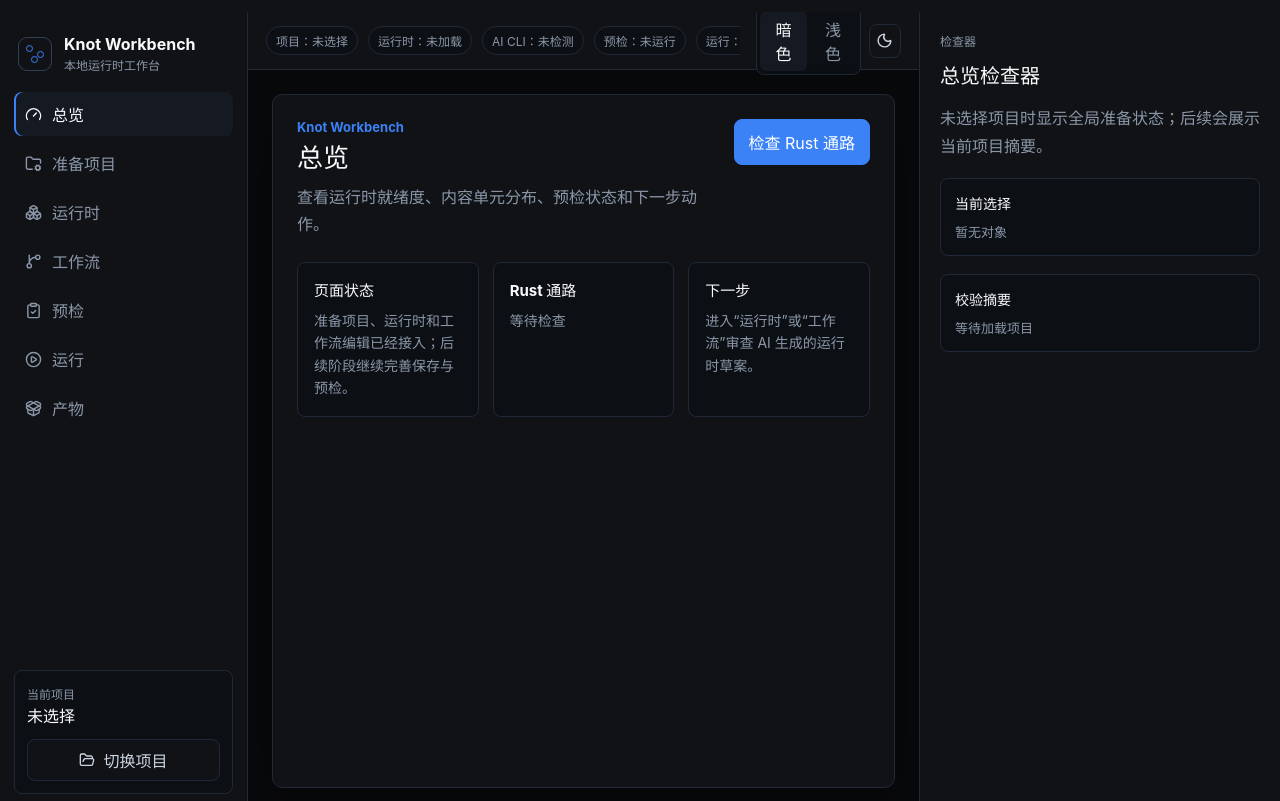
App › syncs the main page and inspector when navigating
Click the button "工作流".
click(124, 261)  # box [14,239,233,283]
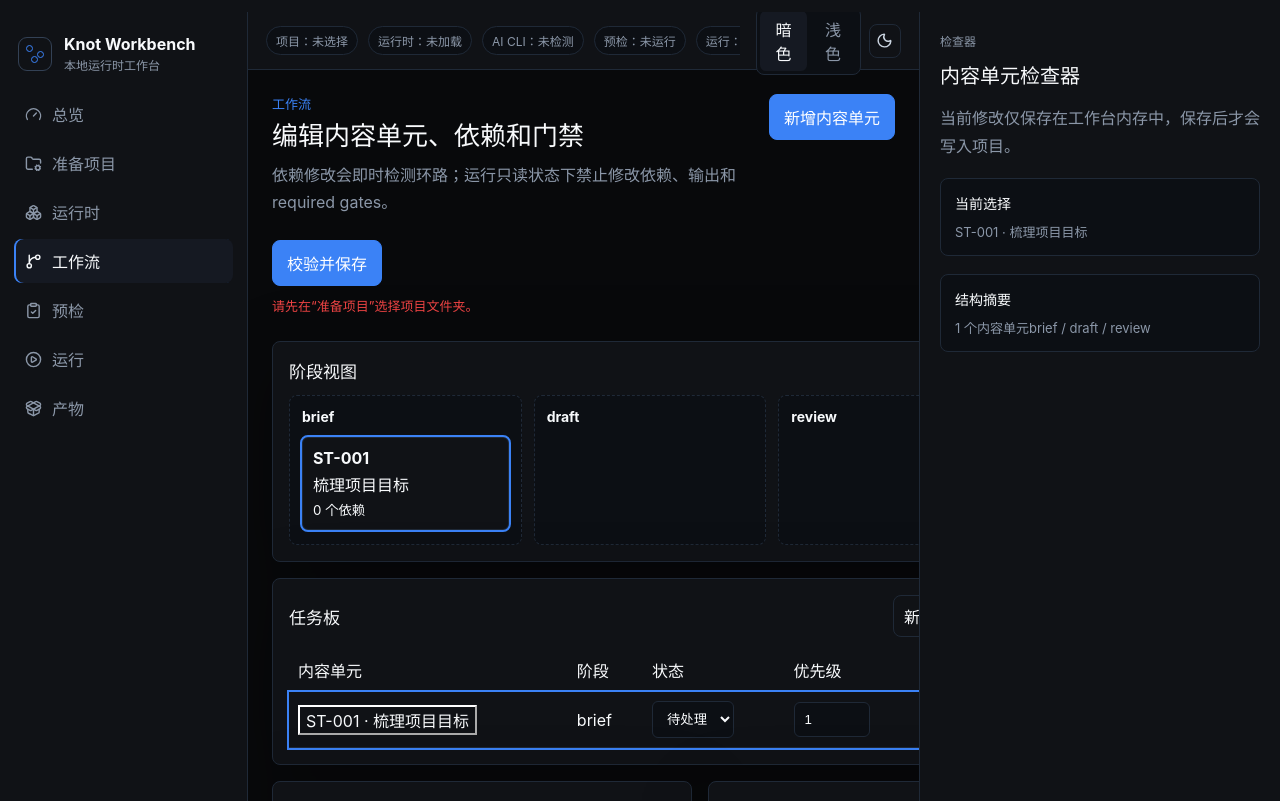
Expected: the heading "编辑内容单元、依赖和门禁" is shown, [272,120,584,151]
Expected: the heading "内容单元检查器" is shown, [940,64,1080,88]
